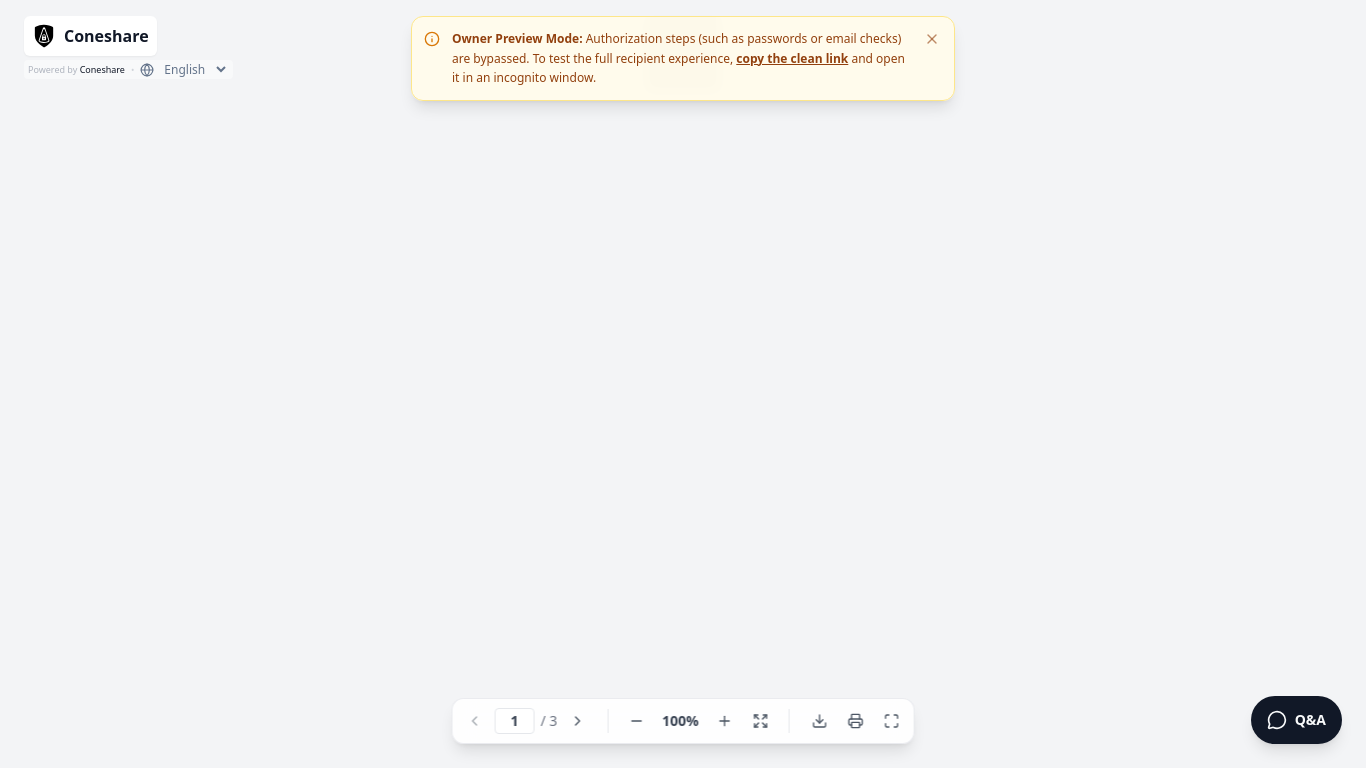
Scenario: ShareLinkViewerPage › renders, copies link, and dismisses the Owner Preview banner when previewToken is present
This screenshot has width=1366, height=768.
Expected: the text "Owner Preview Mode:" is shown, 452,30 -> 583,47
Click the button "copy the clean link": (792, 58) 736,48 -> 848,68
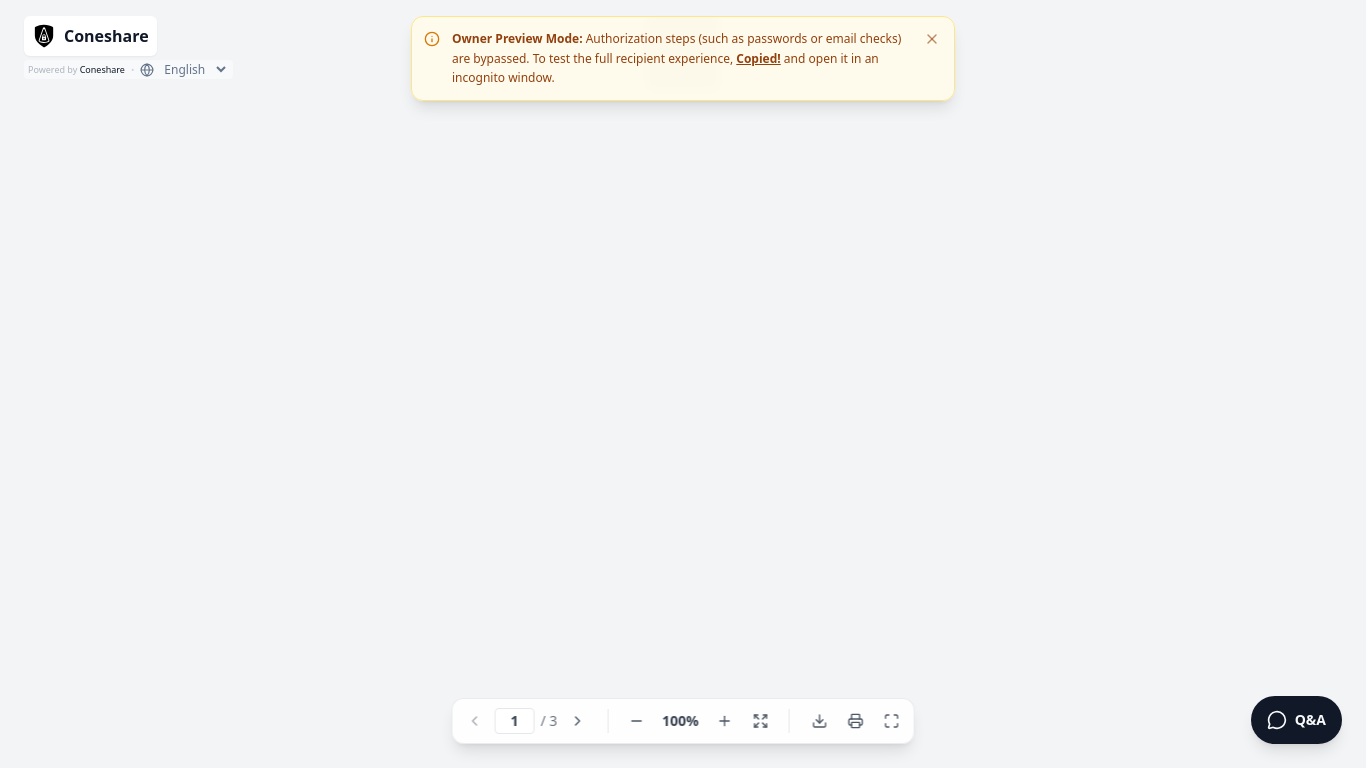
Now the button "Copied!" is shown, box 736,48 -> 781,68
Click the button titled "Dismiss banner": (932, 39) 922,29 -> 942,49
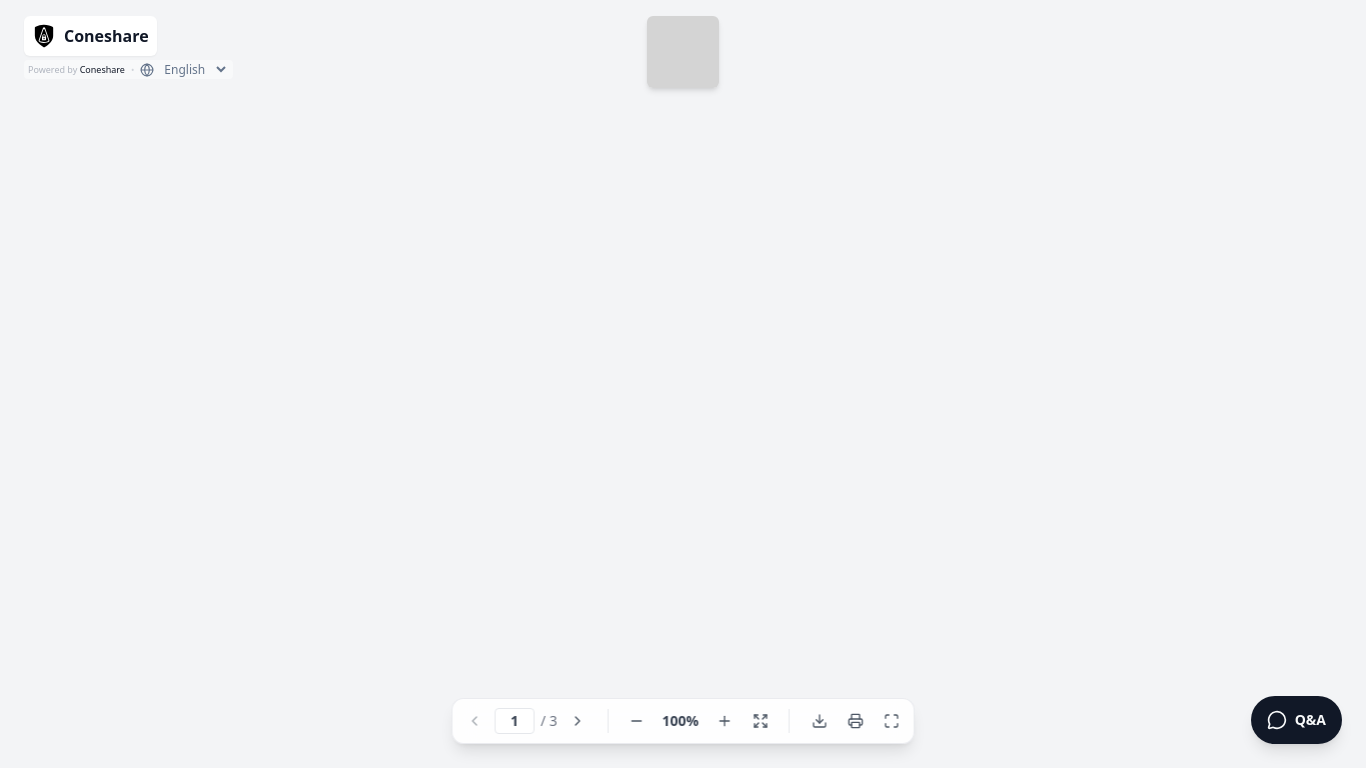
Now the text "Owner Preview Mode:" is gone
